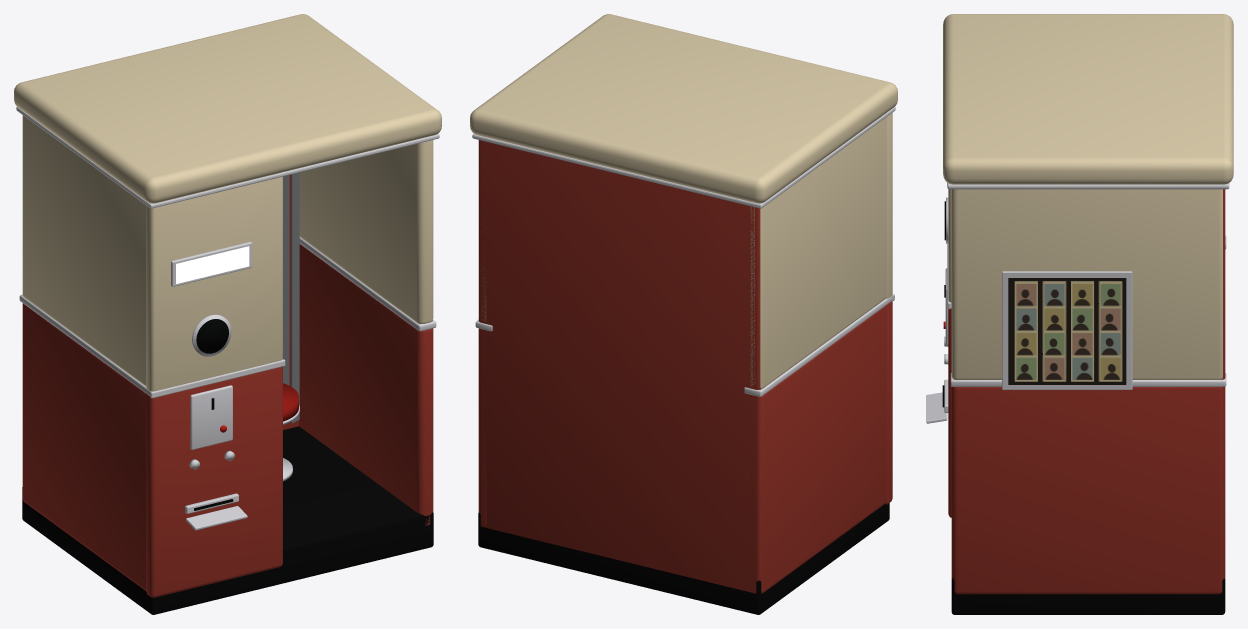
File: photo-booth.glb
The picture shows the model from 3 angles, left to right: view 1: azimuth 30°, elevation 25°; view 2: azimuth 150°, elevation 25°; view 3: azimuth 270°, elevation 25°; orthographic projection. The views are drawn at different scales.
Parts seen in each view (by area): view 1: Würfel.007, Würfel.004, Würfel.001, Würfel.010, Würfel.002, Würfel.011, Würfel.009, Würfel.005, Würfel.015, Würfel.033, Würfel.008, Würfel.014 (+7 smaller); view 2: Würfel, Würfel.007, Würfel.001, Würfel.002, Würfel.009, Würfel.008, Würfel.010, Würfel.003, Würfel.011, Würfel.004; view 3: Würfel.004, Würfel.007, Würfel.005, Fläche, Würfel.009, Würfel.034, Würfel.008, Würfel, Würfel.006, Würfel.010, Würfel.019, Würfel.011.
Part boxes in pixels (left/top/right/bottom): Würfel.007: left=14, top=14, right=441, bottom=203; Würfel.004: left=299, top=244, right=433, bottom=525; Würfel.001: left=22, top=303, right=146, bottom=590; Würfel.010: left=146, top=366, right=282, bottom=597; Würfel.002: left=22, top=115, right=146, bottom=386; Würfel.011: left=146, top=173, right=282, bottom=391; Würfel.009: left=22, top=426, right=433, bottom=614; Würfel.005: left=299, top=140, right=433, bottom=323; Würfel.015: left=190, top=385, right=232, bottom=449; Würfel.033: left=290, top=172, right=299, bottom=423; Würfel.008: left=16, top=107, right=439, bottom=208; Würfel.014: left=176, top=246, right=249, bottom=283; Würfel: left=478, top=140, right=761, bottom=593; Würfel.007: left=470, top=14, right=897, bottom=203; Würfel.001: left=750, top=305, right=886, bottom=593; Würfel.002: left=750, top=117, right=886, bottom=388; Würfel.009: left=478, top=503, right=889, bottom=614; Würfel.008: left=472, top=107, right=895, bottom=208; Würfel.010: left=885, top=301, right=892, bottom=504; Würfel.003: left=744, top=296, right=892, bottom=396; Würfel.011: left=886, top=113, right=892, bottom=298; Würfel.004: left=478, top=330, right=486, bottom=525; Würfel.004: left=951, top=387, right=1222, bottom=594; Würfel.007: left=943, top=14, right=1233, bottom=184; Würfel.005: left=951, top=189, right=1222, bottom=379; Fläche: left=1008, top=278, right=1126, bottom=384; Würfel.009: left=951, top=578, right=1225, bottom=614; Würfel.034: left=1002, top=271, right=1132, bottom=389; Würfel.008: left=947, top=183, right=1229, bottom=189; Würfel: left=1221, top=189, right=1225, bottom=579; Würfel.006: left=950, top=373, right=1226, bottom=386; Würfel.010: left=948, top=308, right=951, bottom=517; Würfel.019: left=926, top=392, right=947, bottom=423; Würfel.011: left=948, top=189, right=951, bottom=302.
Bounding box in the file's own units: 1.7 × 2.4 × 1.46.
11 materials, 1 textured.
